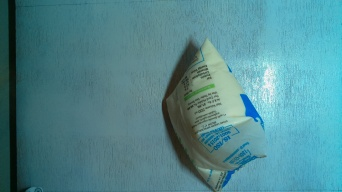m: (157, 43, 278, 185)
